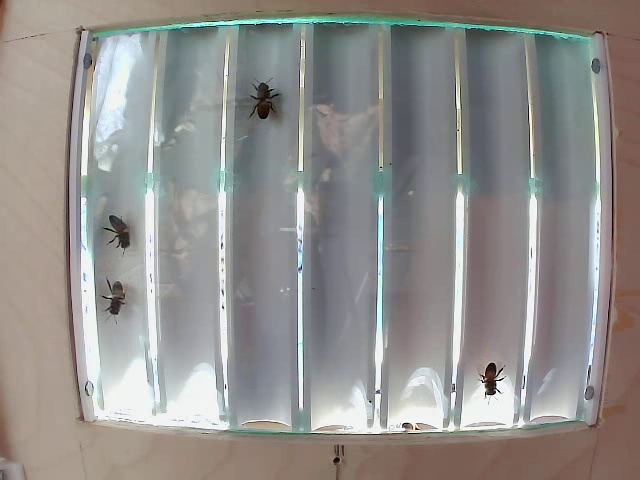bee: (90, 263, 129, 316), (244, 67, 278, 119), (105, 207, 143, 248)
